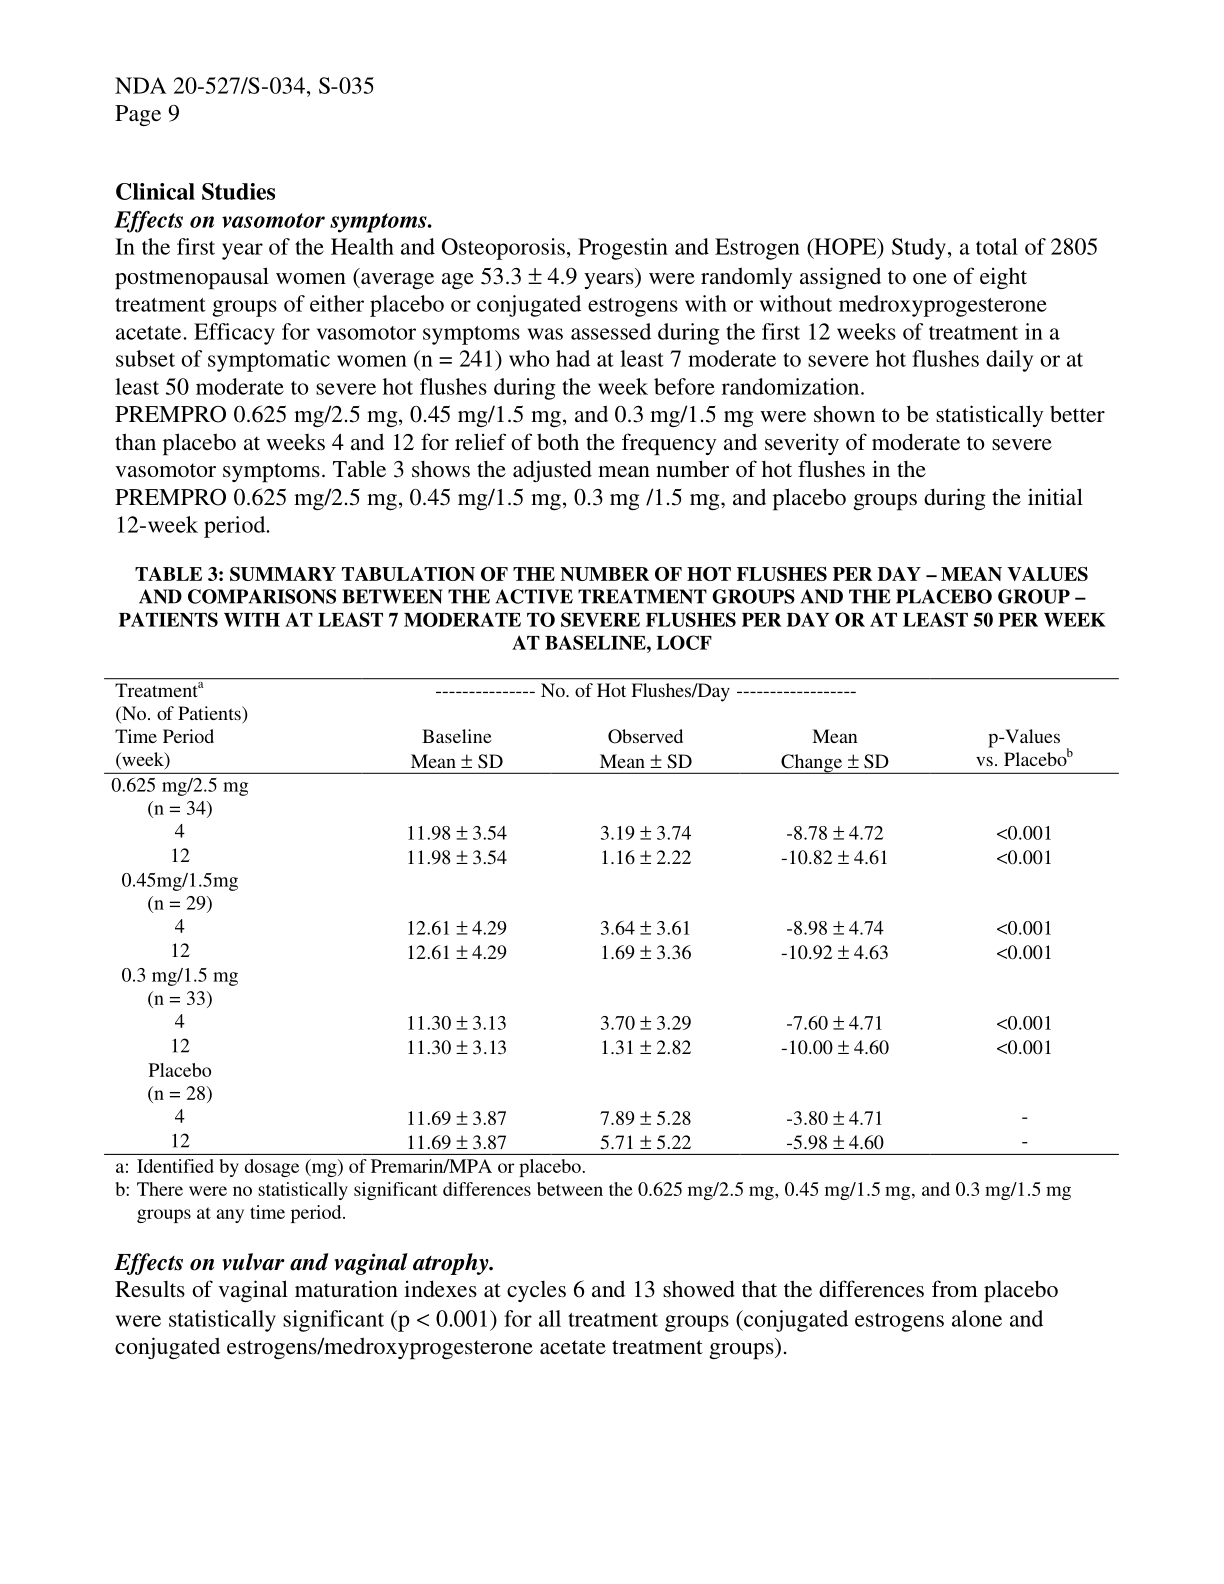partial_lined_merged_cells: (102, 676, 1126, 1157)
